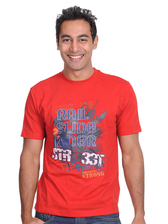clothoes: (20, 70, 142, 217)
